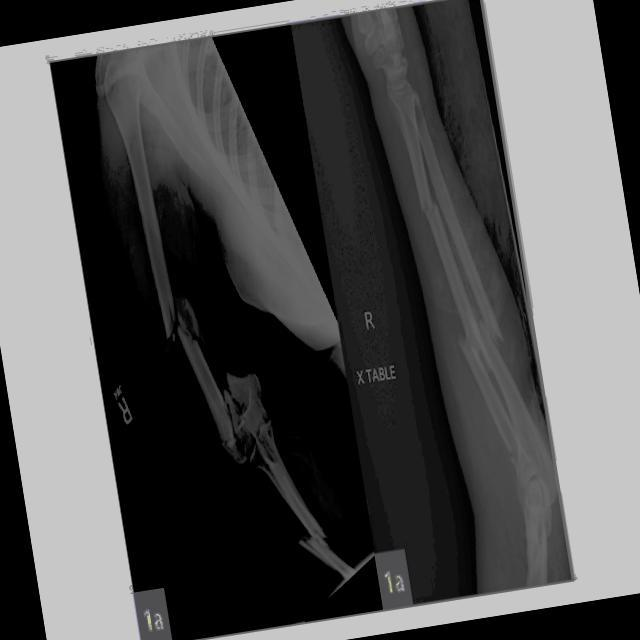Comminuted Fracture: (147, 272, 204, 354), (286, 514, 350, 564)
